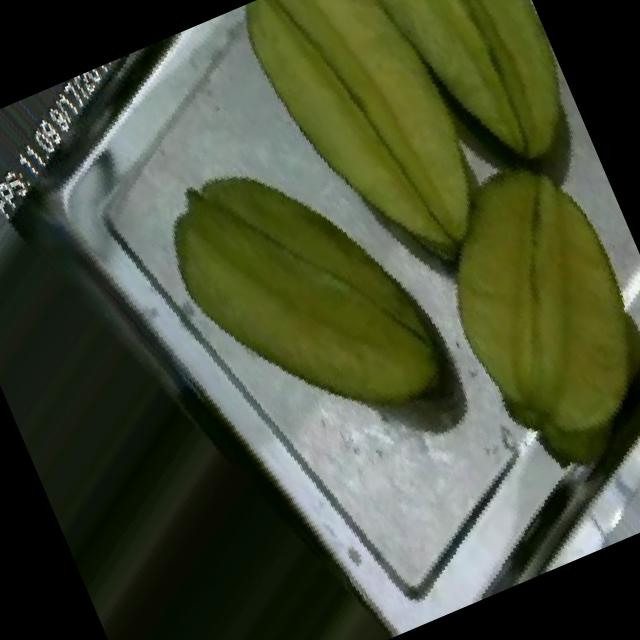fruit: (103, 66, 519, 516), (163, 0, 620, 347), (356, 108, 640, 522)
